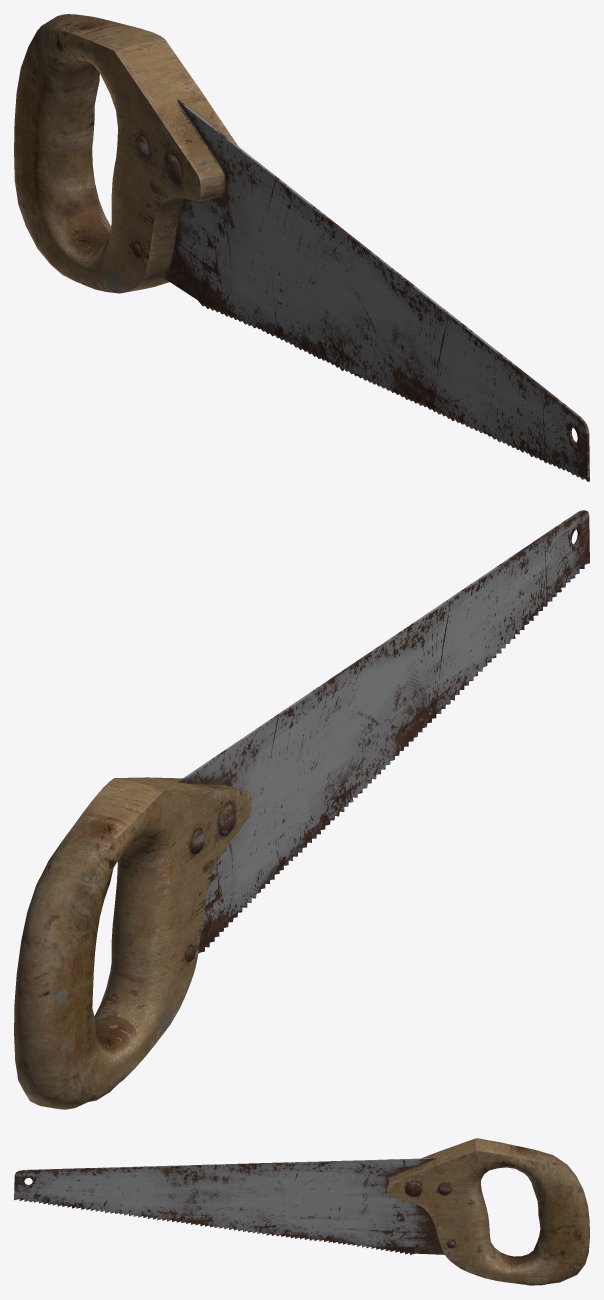
File: handsaw_wood_2k.fbx
3 views of the same model, one above another, from view 1: azimuth 30°, elevation 25°; view 2: azimuth 150°, elevation 25°; view 3: azimuth 270°, elevation 25° (orthographic). The views are drawn at different scales.
Parts seen in each view (by area): view 1: handsaw_wood; view 2: handsaw_wood; view 3: handsaw_wood.
Part boxes in pixels (x1,y1,x2,y2): handsaw_wood: [14, 14, 589, 481]; handsaw_wood: [14, 510, 589, 1109]; handsaw_wood: [14, 1138, 589, 1285].
Size of the model in its own units: 4.08 by 16.65 by 63.3.
Materials: 1 (1 with a texture image).
